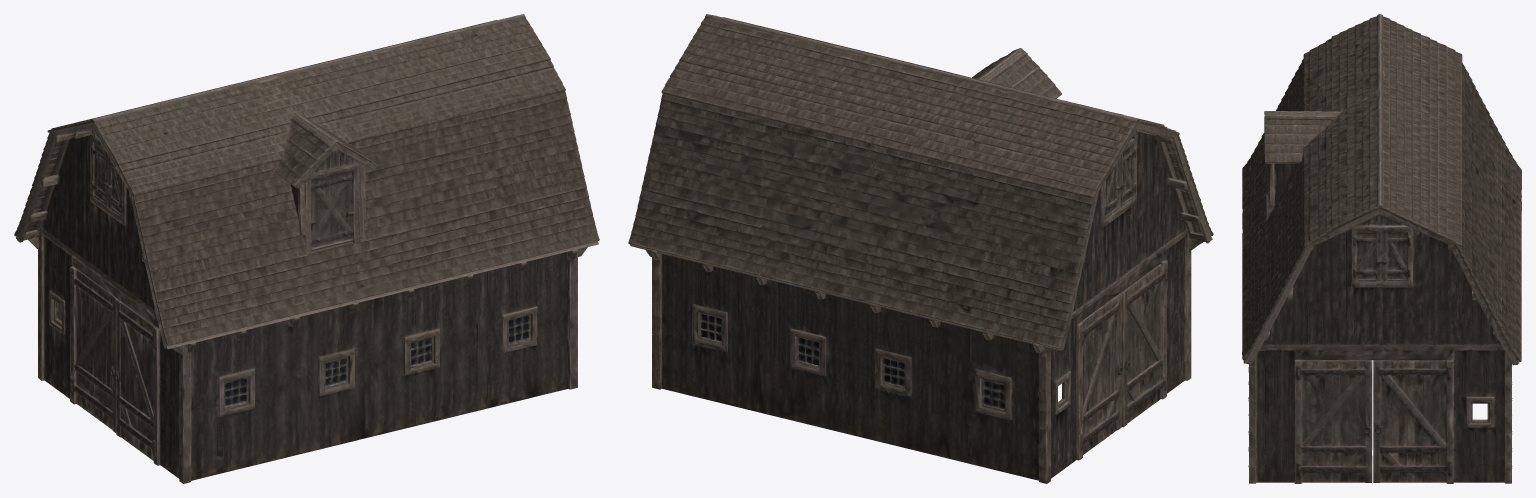
The model's file is stodola.glb.
3 views of the same model, side by side, from view 1: azimuth 30°, elevation 25°; view 2: azimuth 150°, elevation 25°; view 3: azimuth 270°, elevation 25° (orthographic). The views are drawn at different scales.
Parts seen in each view (by area): view 1: Mesh_0; view 2: Mesh_0; view 3: Mesh_0.
Part boxes in pixels (<box>): Mesh_0: <box>14,14,599,483</box>; Mesh_0: <box>628,14,1213,483</box>; Mesh_0: <box>1242,14,1521,483</box>.
Bounding box in the file's own units: 1.9 × 1.33 × 1.18.
1 material, 1 textured.
